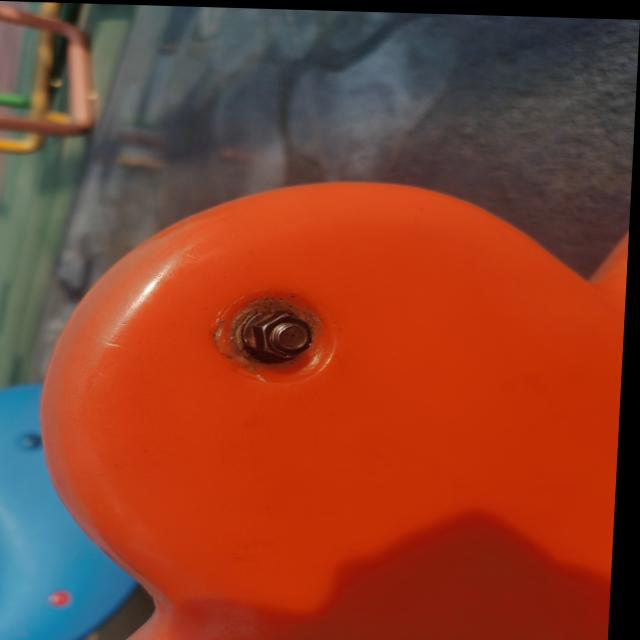Rusty bolt: (246, 308, 319, 358)
